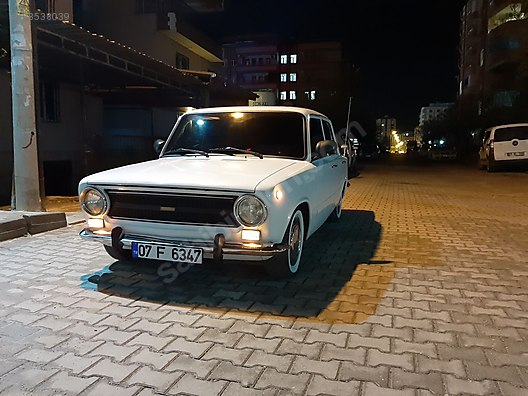murat: (72, 100, 352, 288)
